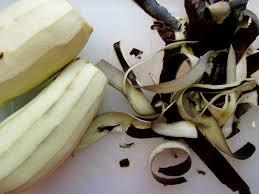Organic: (0, 4, 257, 194)
